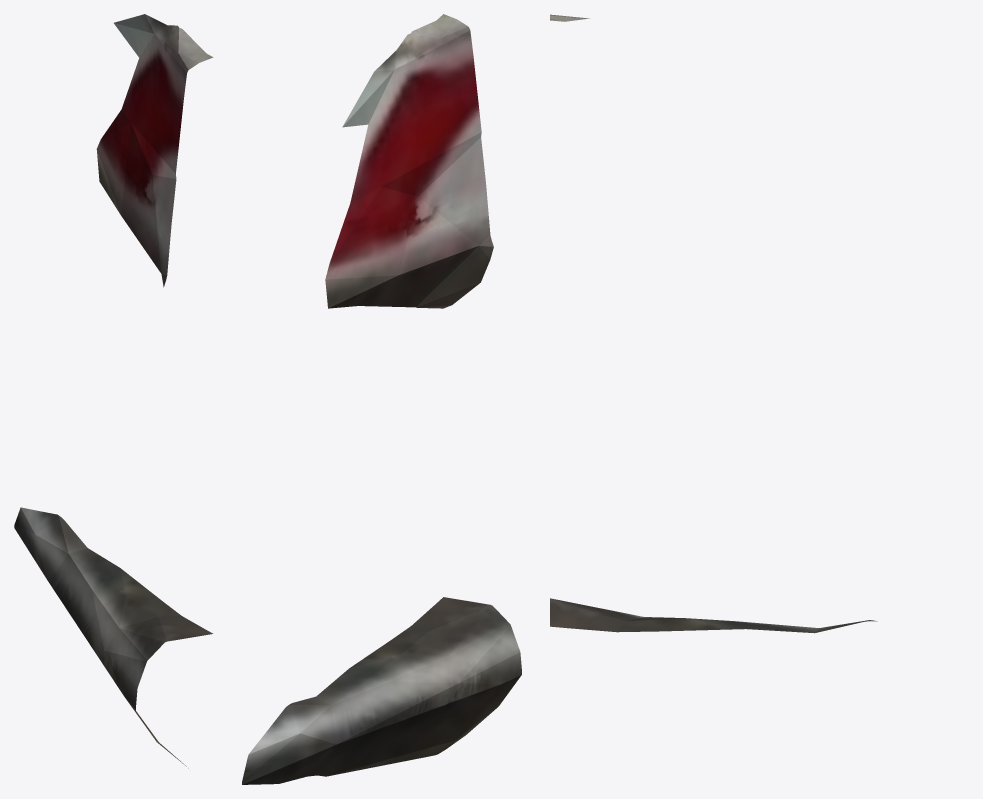
The picture shows the model from 3 angles, left to right: view 1: azimuth 30°, elevation 25°; view 2: azimuth 150°, elevation 25°; view 3: azimuth 270°, elevation 25°; orthographic projection. The views are drawn at different scales.
Bounding box in the file's own units: 0.0928 × 0.8373 × 0.4127.
Materials: 1 (1 with a texture image).
